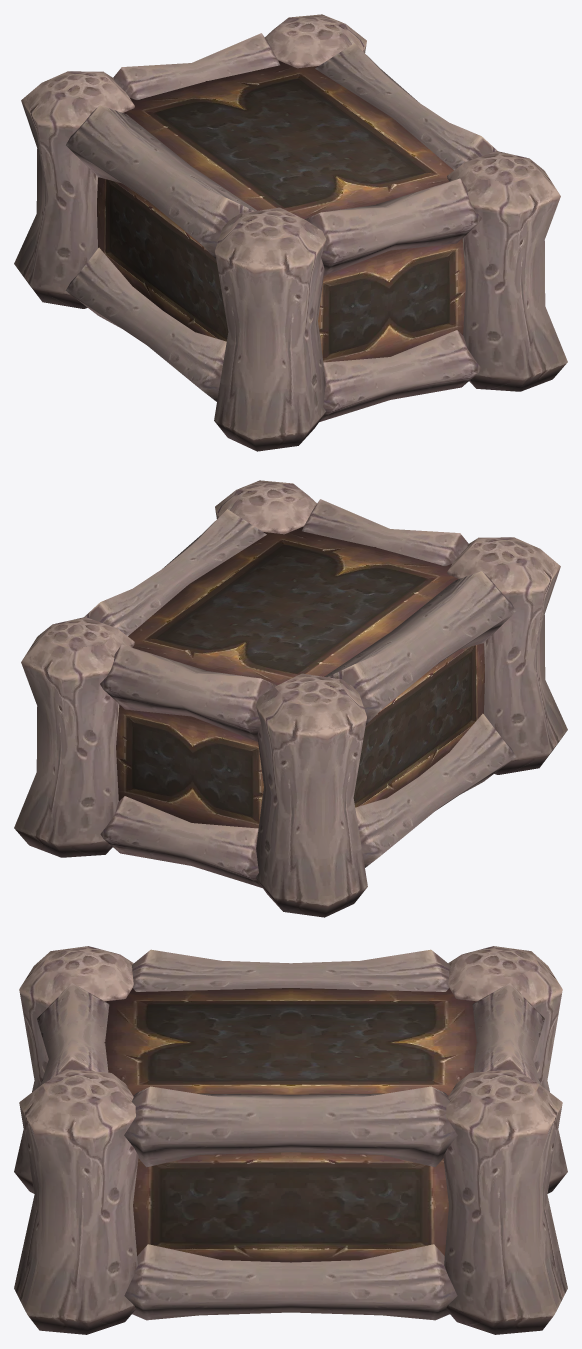
3 renders of one model, top to bottom at view 1: azimuth 30°, elevation 25°; view 2: azimuth 150°, elevation 25°; view 3: azimuth 270°, elevation 25°, orthographic. The views are drawn at different scales.
Size of the model in its own units: 1.7 by 1.06 by 2.21.
Materials: 1 (1 with a texture image).
